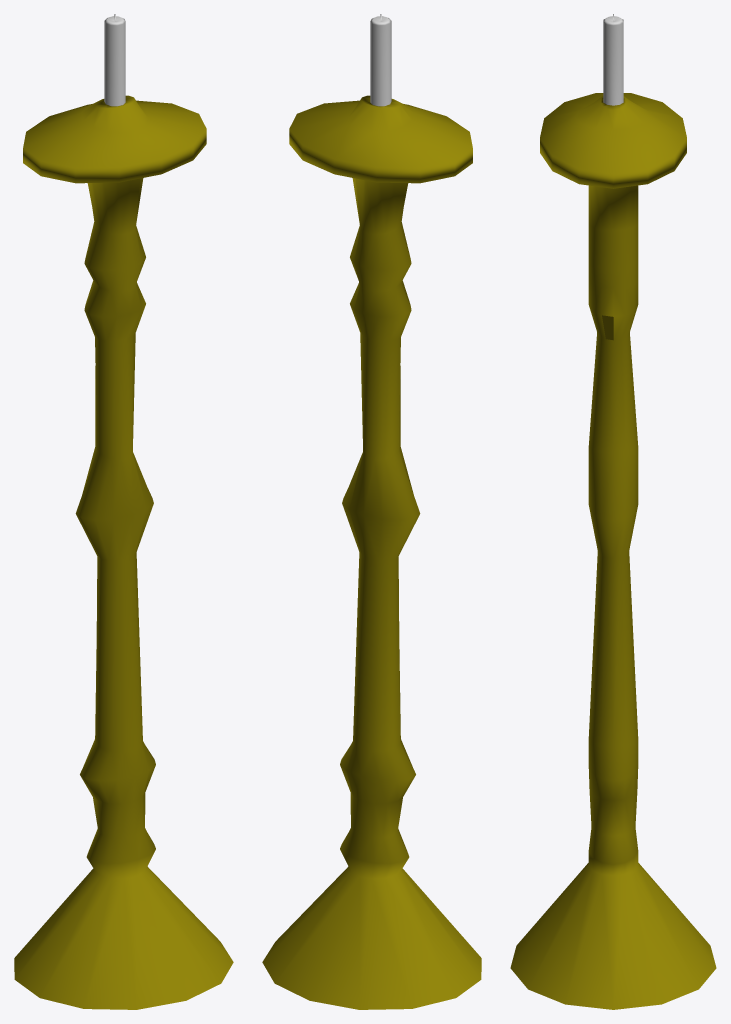
The model's file is candle.fbx.
3 views of the same model, side by side, from view 1: azimuth 30°, elevation 25°; view 2: azimuth 150°, elevation 25°; view 3: azimuth 270°, elevation 25° (orthographic).
Visible parts, largest first — view 1: candle; view 2: candle; view 3: candle.
Boxes of the visible parts, x1,y1,x2,y2 form: candle: (14, 14, 233, 1009); candle: (262, 14, 481, 1009); candle: (510, 14, 716, 1009).
Size of the model in its own units: 1.31 by 6.18 by 1.22.
